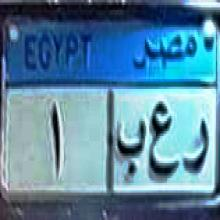1: (48, 100, 66, 178)
ain: (148, 95, 180, 183)
baa: (115, 113, 146, 181)
raa: (182, 112, 210, 180)
